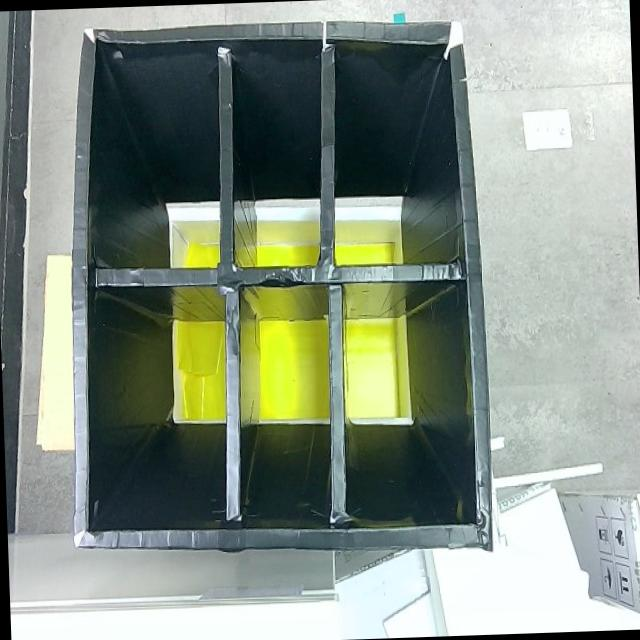box: (56, 14, 495, 562)
